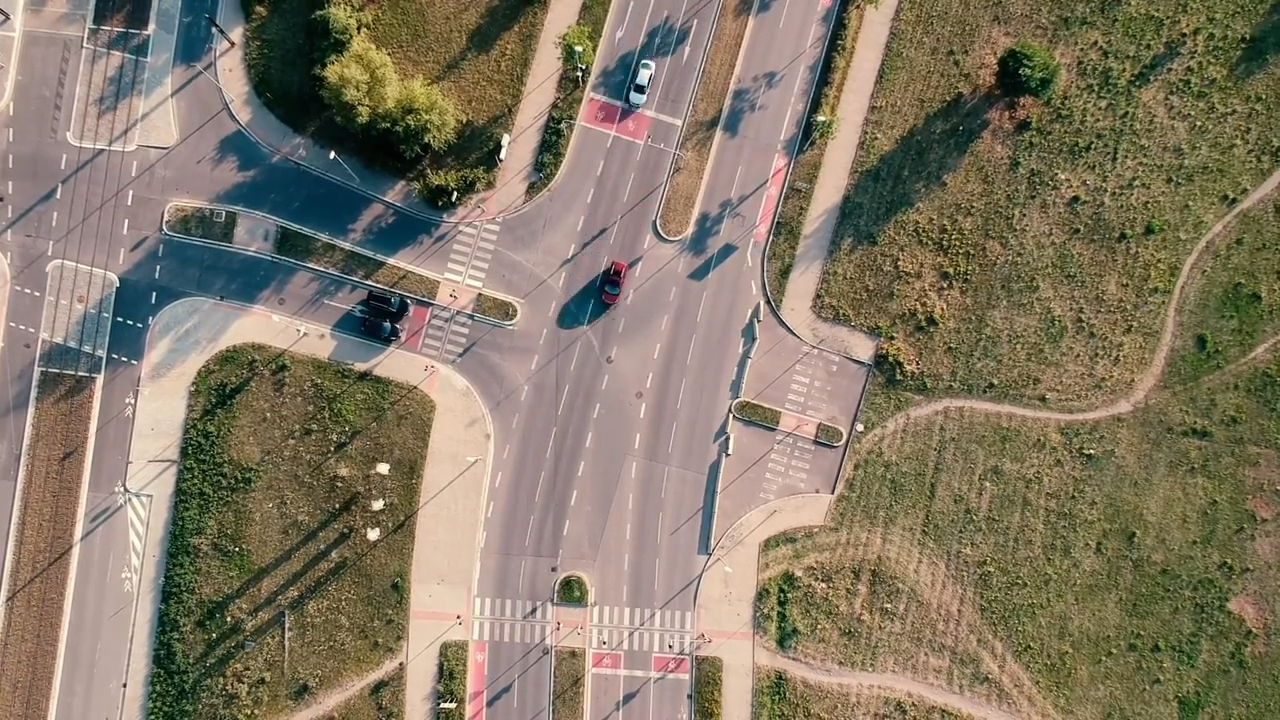car: (624, 59, 659, 110), (367, 287, 413, 318), (603, 258, 629, 306), (360, 313, 403, 342)
